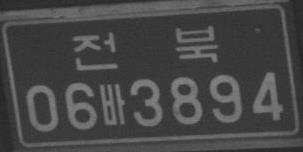0: (24, 83, 59, 133)
3: (129, 77, 163, 127)
4: (252, 71, 284, 121)
6: (63, 81, 97, 130)
8: (169, 75, 203, 126)
9: (208, 73, 243, 124)
바: (98, 82, 126, 126)
전북_D: (71, 24, 218, 72)
